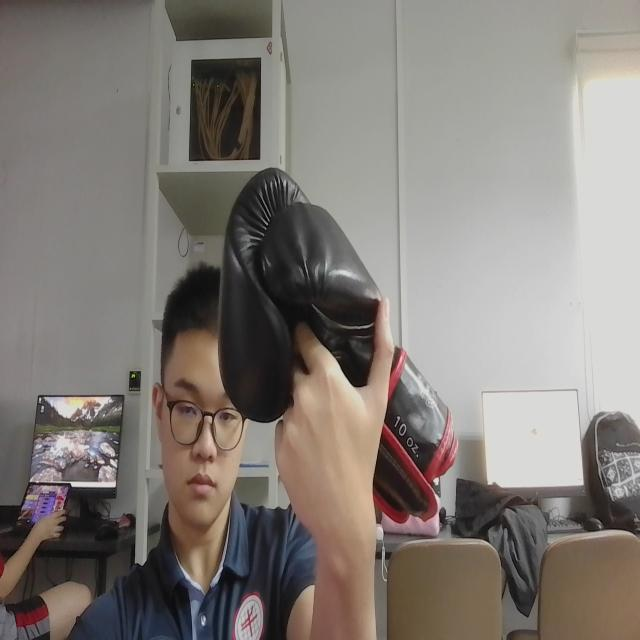boxing glove: (206, 152, 468, 553)
